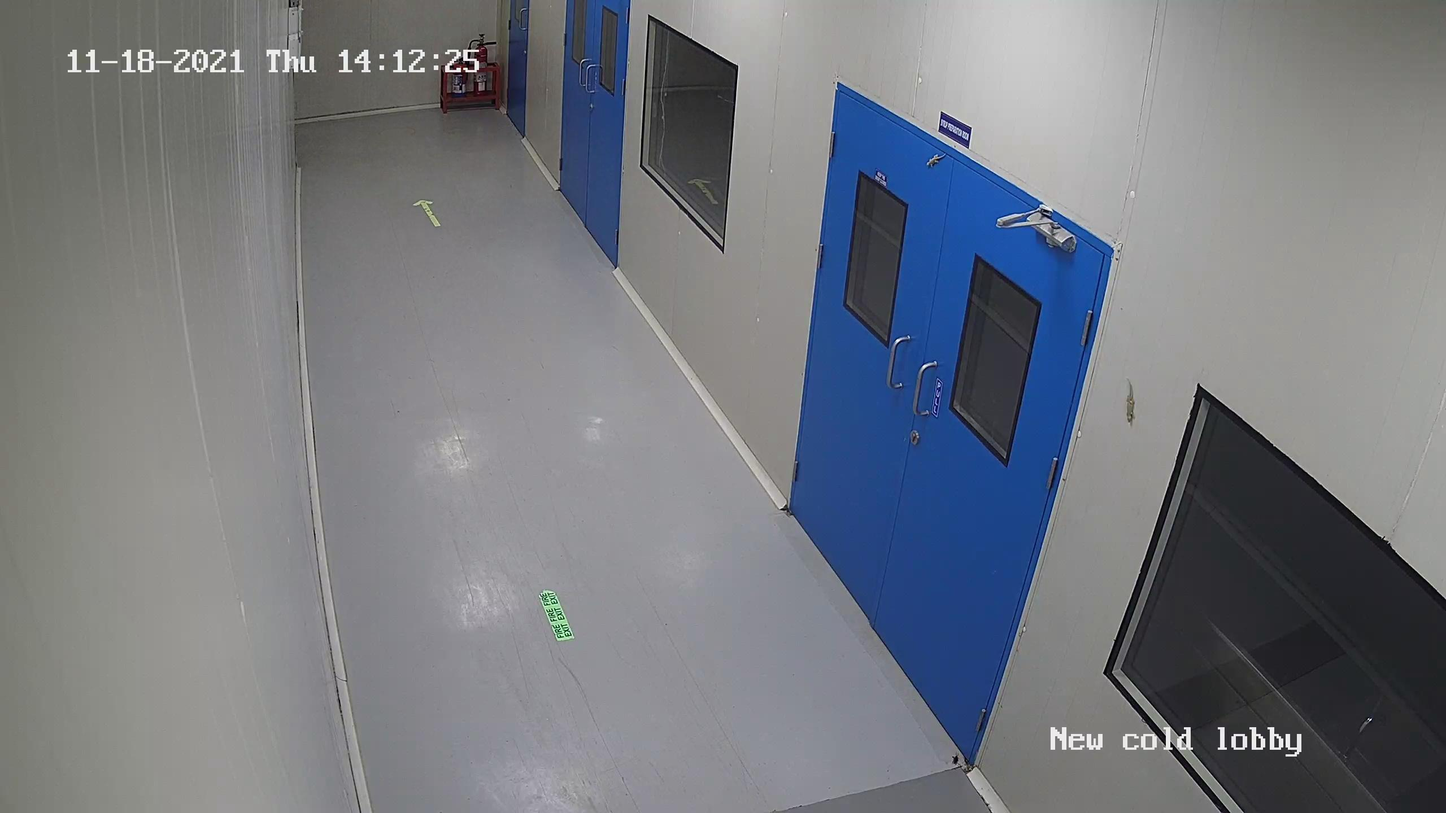lizard: (1117, 375, 1139, 424), (921, 151, 952, 168), (949, 751, 962, 768)
